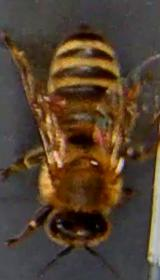varroa_mite: (39, 84, 70, 119)
